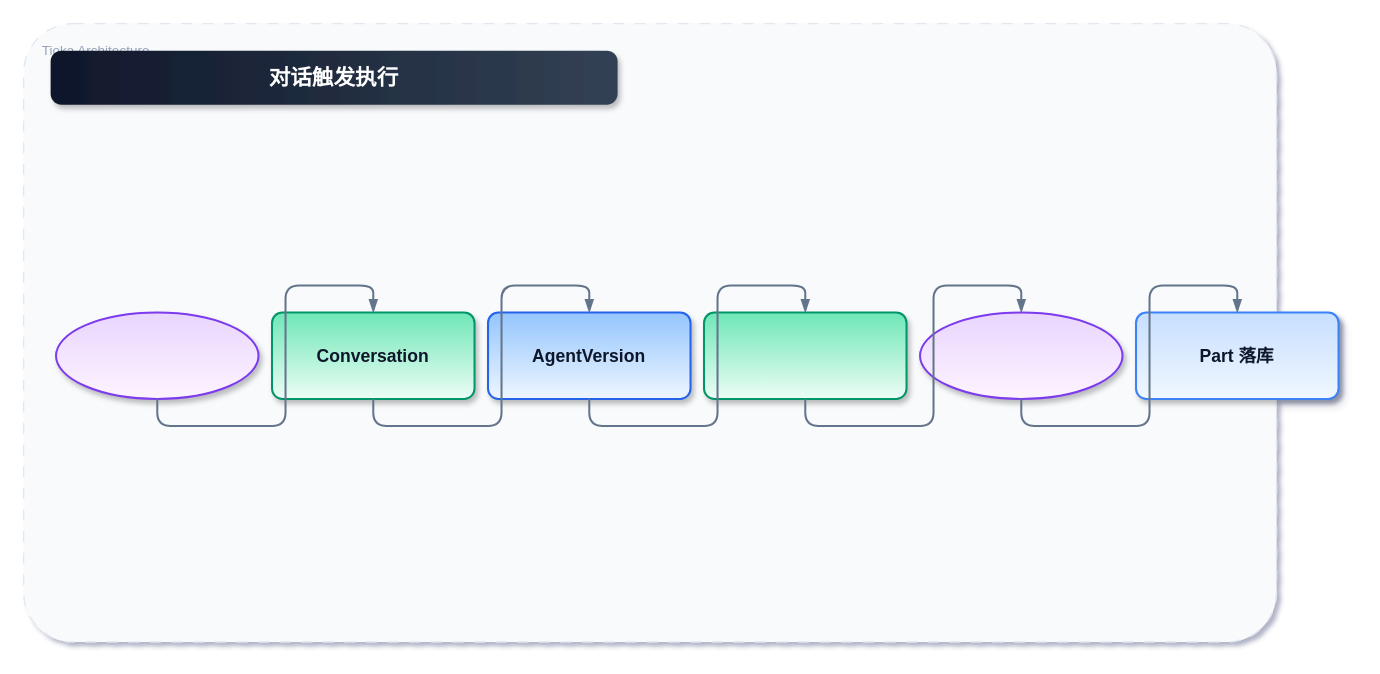
The diagram is 1380 pixels wide and 674 high, and some of its shapes have lost their labels. The centre of each missing label's shape, as x and y in pixels:
"Runtime" belongs at point (806, 357).
"SSE Parts" belongs at point (1022, 357).
"用户消息" belongs at point (158, 357).
